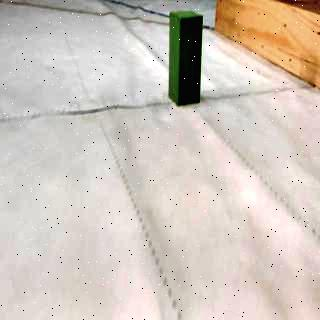greenbox: (168, 9, 204, 107)
